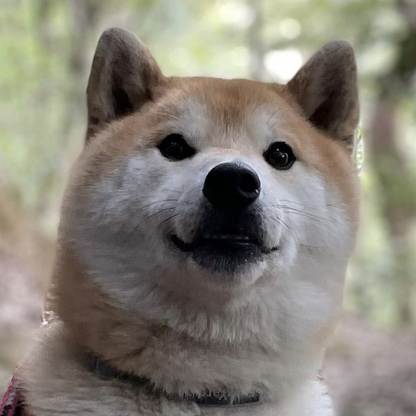shiba: (7, 23, 362, 416)
